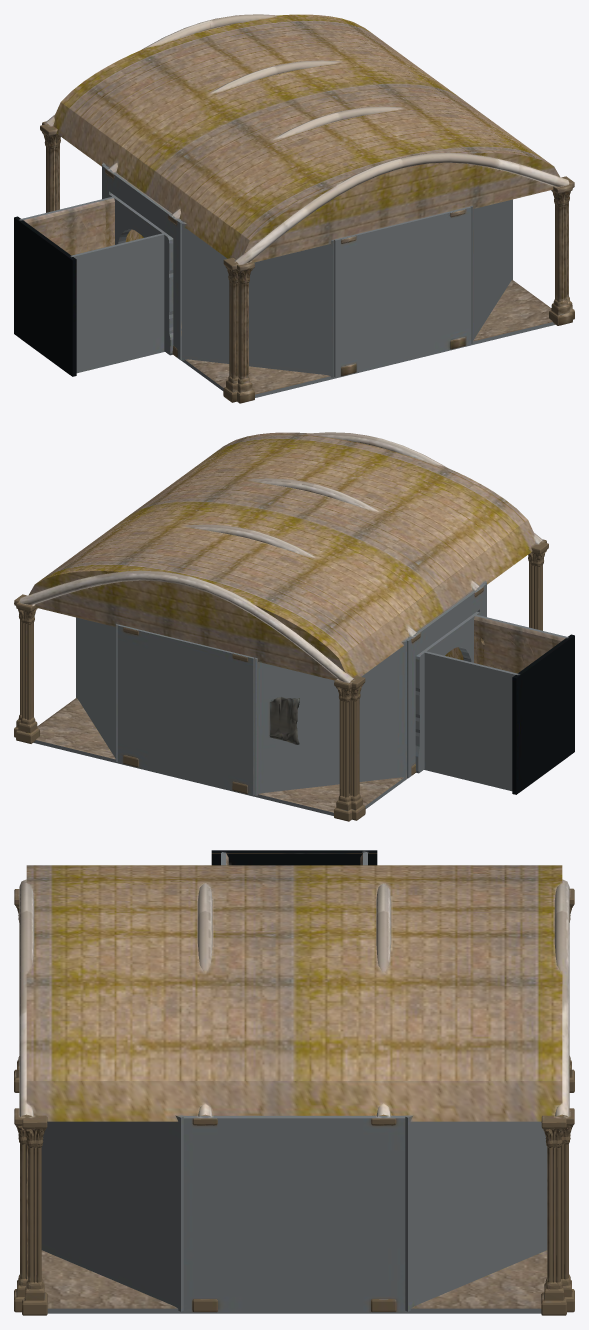
File: room.glb
The picture shows the model from 3 angles, top to bottom: view 1: azimuth 30°, elevation 25°; view 2: azimuth 150°, elevation 25°; view 3: azimuth 270°, elevation 25°; orthographic projection. The views are drawn at different scales.
Parts seen in each view (by area): view 1: WELL-BOTTOM; view 2: WELL-BOTTOM; view 3: WELL-BOTTOM.
Part boxes in pixels (x1=…): WELL-BOTTOM: x1=14, y1=14, x2=574, y2=403; WELL-BOTTOM: x1=14, y1=432, x2=574, y2=821; WELL-BOTTOM: x1=14, y1=850, x2=574, y2=1315.
Bounding box in the file's own units: 13.3 × 5.95 × 10.48.
1 material, 1 textured.
